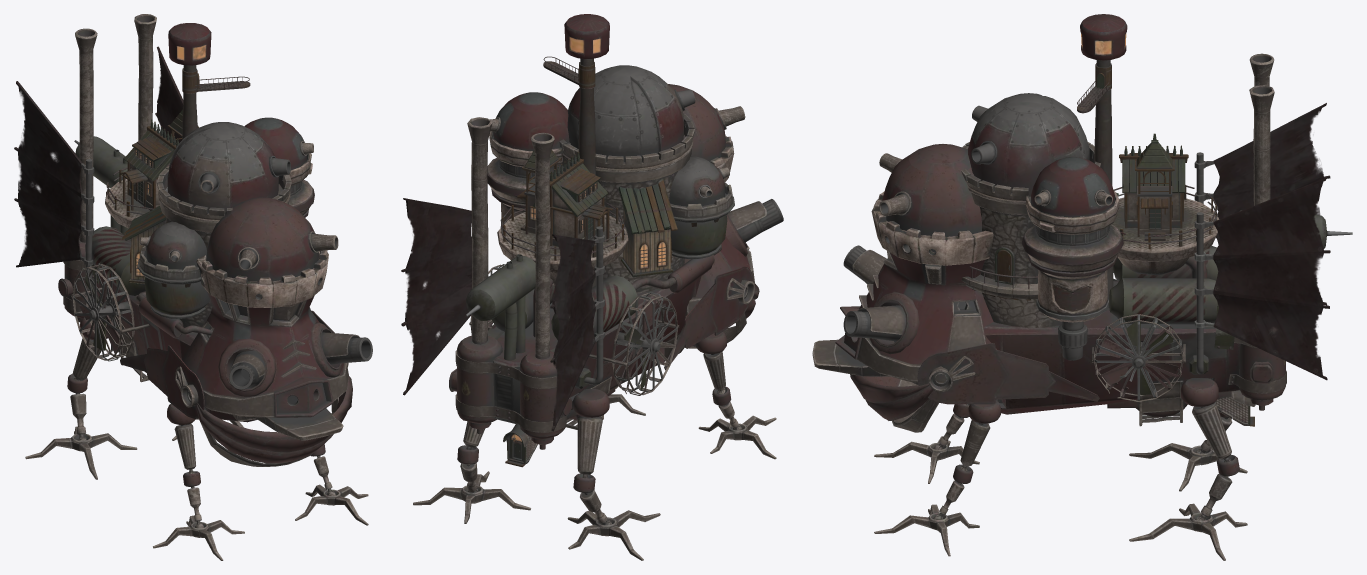
File: chateau-ambulant.glb
3 renders of one model, left to right at view 1: azimuth 30°, elevation 25°; view 2: azimuth 150°, elevation 25°; view 3: azimuth 270°, elevation 25°, orthographic. The views are drawn at different scales.
Visible parts, largest first — view 1: defaultMaterial (×4); view 2: defaultMaterial (×4); view 3: defaultMaterial (×4).
Boxes of the visible parts, x1=… form: defaultMaterial (×4): x1=14, y1=14, x2=372, y2=560; defaultMaterial (×4): x1=401, y1=14, x2=783, y2=560; defaultMaterial (×4): x1=812, y1=14, x2=1352, y2=560.
Size of the model in its own units: 12.24 by 23.86 by 24.13.
4 materials, 4 textured.
